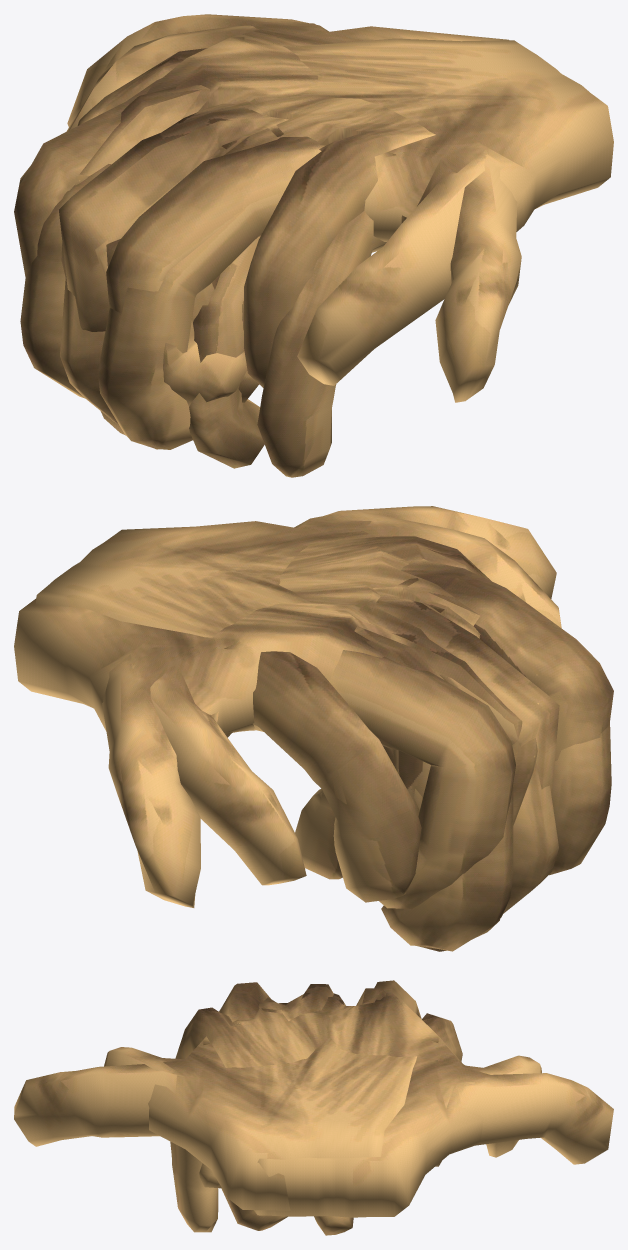
The model's file is temp mesh_main hand grabbing2.glb.
3 renders of one model, top to bottom at view 1: azimuth 30°, elevation 25°; view 2: azimuth 150°, elevation 25°; view 3: azimuth 270°, elevation 25°, orthographic. The views are drawn at different scales.
Parts seen in each view (by area): view 1: hand mesh R_grabbing generic, hand mesh R_grabbing beer, hand mesh L_grabbing beer, hand mesh L_grabbing generic; view 2: hand mesh L_grabbing generic, hand mesh R_grabbing beer, hand mesh R_grabbing generic, hand mesh L_grabbing beer; view 3: hand mesh R_grabbing beer, hand mesh L_grabbing generic, hand mesh L_grabbing beer, hand mesh R_grabbing generic.
Boxes of the visible parts, x1,y1,x2,y2 form: hand mesh R_grabbing generic: (59,49,613,406); hand mesh R_grabbing beer: (60,38,613,449); hand mesh L_grabbing beer: (20,14,386,477); hand mesh L_grabbing generic: (14,22,508,402); hand mesh L_grabbing generic: (14,536,537,908); hand mesh R_grabbing beer: (36,506,611,913); hand mesh R_grabbing generic: (182,510,613,879); hand mesh L_grabbing beer: (102,595,513,951); hand mesh R_grabbing beer: (14,993,460,1210); hand mesh L_grabbing generic: (175,980,541,1217); hand mesh L_grabbing beer: (170,995,613,1235); hand mesh R_grabbing generic: (104,982,462,1197).
Bounding box in the file's own units: 2.39 × 1.53 × 3.25.
Materials: 1 (1 with a texture image).
